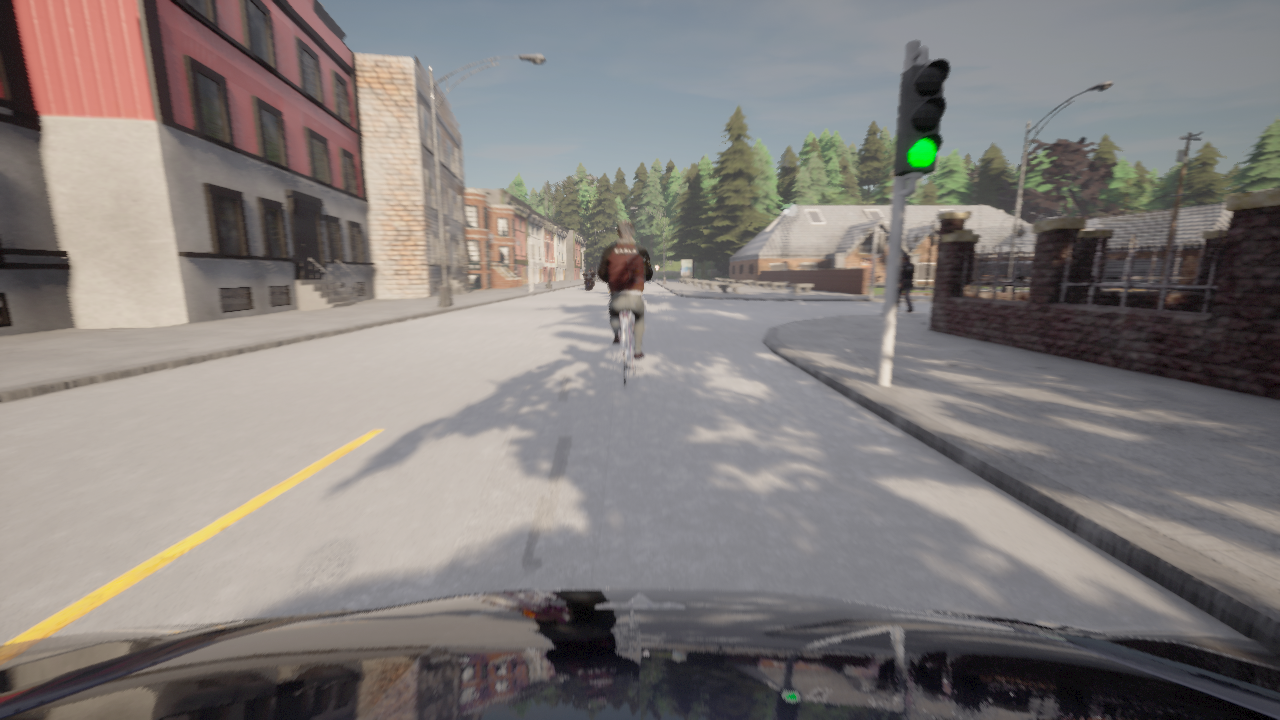cyclist: (0, 588, 1279, 719), (619, 312, 642, 389), (584, 273, 594, 289)
pedestrian: (896, 255, 914, 312)
